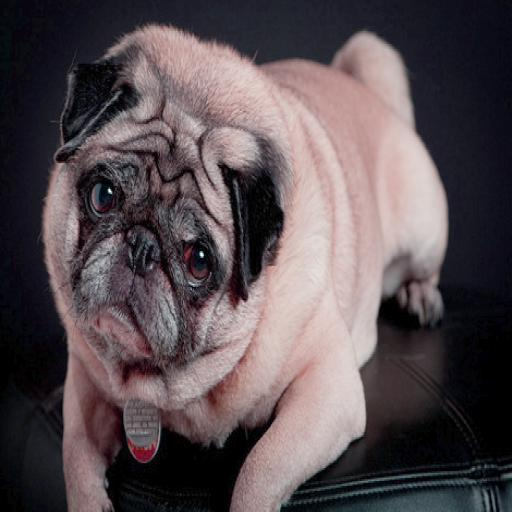dog_face: (39, 33, 287, 406)
